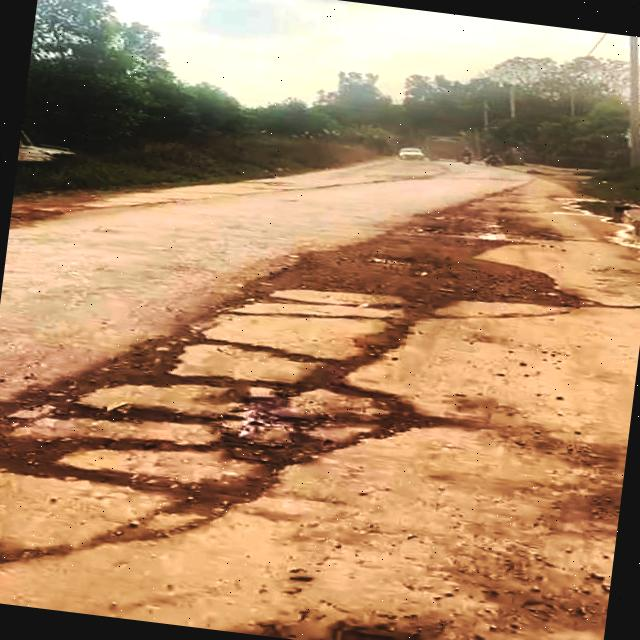pothole: (0, 330, 450, 539)
